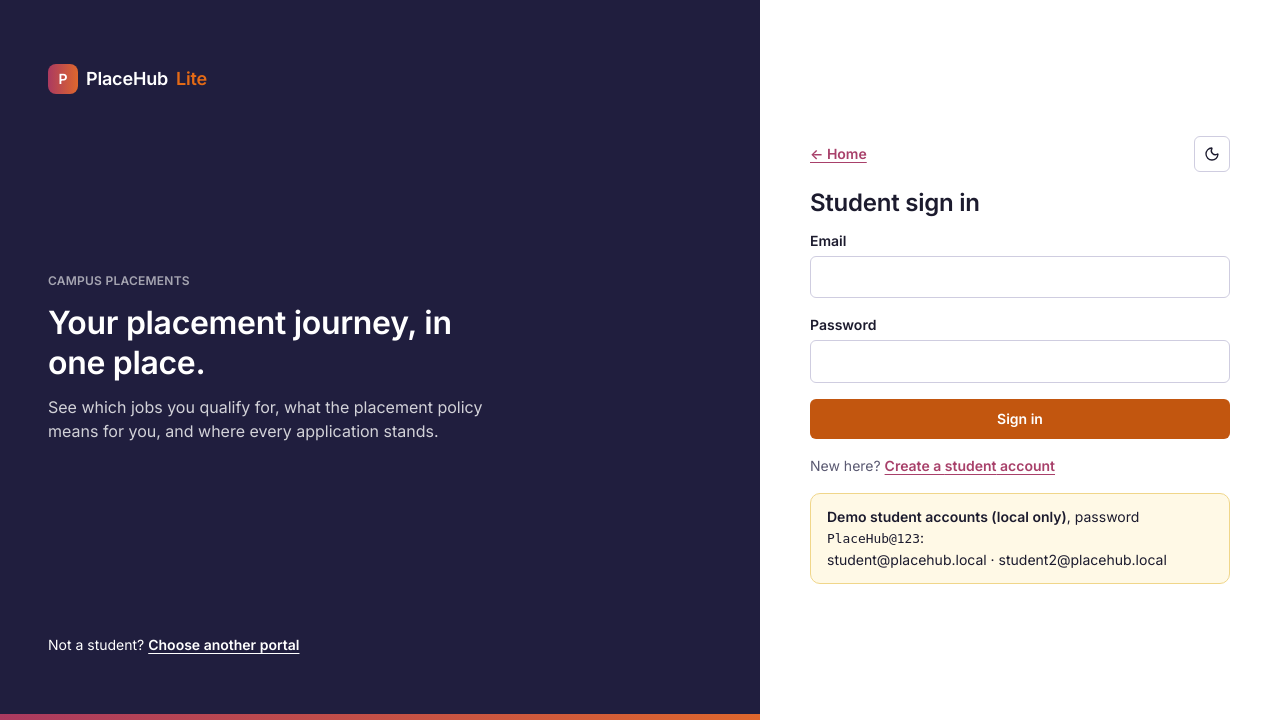
Login form validation › requires email and password before calling the API
Step 1. Click the button "Sign in" → point(1020, 419), box x1=810 y1=399 x2=1230 y2=439
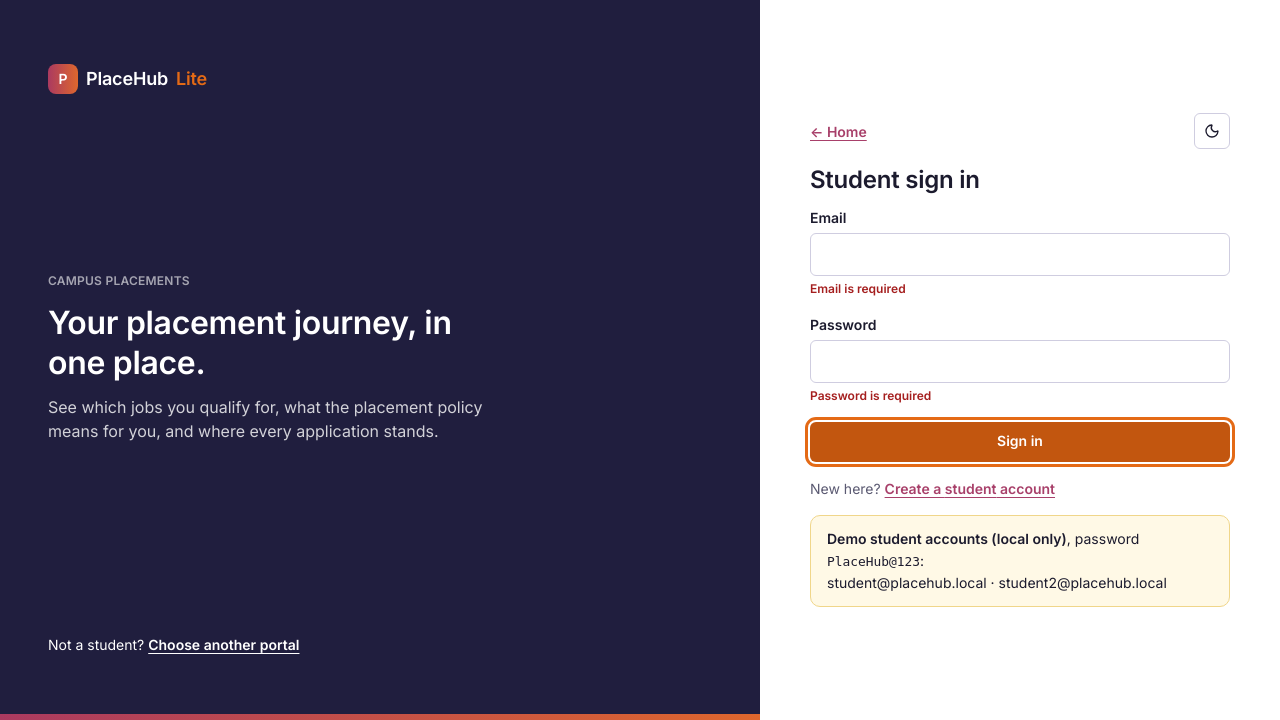
Now the text "Email is required" is shown, box x1=810 y1=281 x2=906 y2=296
Now the text "Password is required" is shown, box x1=810 y1=388 x2=931 y2=403
